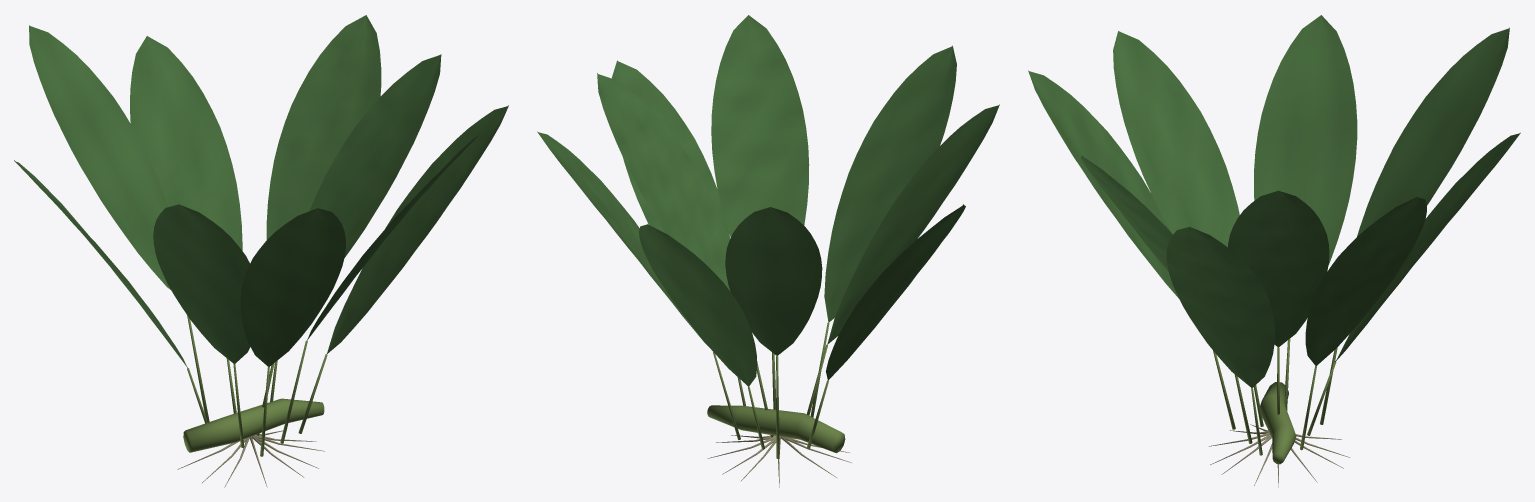
Rendered from anubias-mobile.glb.
3 renders of one model, left to right at view 1: azimuth 30°, elevation 25°; view 2: azimuth 150°, elevation 25°; view 3: azimuth 270°, elevation 25°, orthographic. The views are drawn at different scales.
Visible parts, largest first — view 1: blade, creeping-rhizome, petiole, anchoring-root; view 2: blade, creeping-rhizome, petiole, anchoring-root; view 3: blade, petiole, creeping-rhizome, anchoring-root.
Part boxes in pixels (x1=…): blade: x1=14, y1=15, x2=508, y2=367; creeping-rhizome: x1=183, y1=398, x2=324, y2=452; petiole: x1=187, y1=315, x2=327, y2=456; anchoring-root: x1=177, y1=430, x2=324, y2=487; blade: x1=537, y1=15, x2=999, y2=386; creeping-rhizome: x1=707, y1=405, x2=845, y2=453; petiole: x1=713, y1=323, x2=829, y2=458; anchoring-root: x1=707, y1=435, x2=851, y2=487; blade: x1=1028, y1=15, x2=1520, y2=387; petiole: x1=1213, y1=338, x2=1337, y2=455; creeping-rhizome: x1=1260, y1=382, x2=1296, y2=464; anchoring-root: x1=1209, y1=424, x2=1349, y2=487.
Size of the model in its own units: 0.7553 by 0.6302 by 0.7479.
